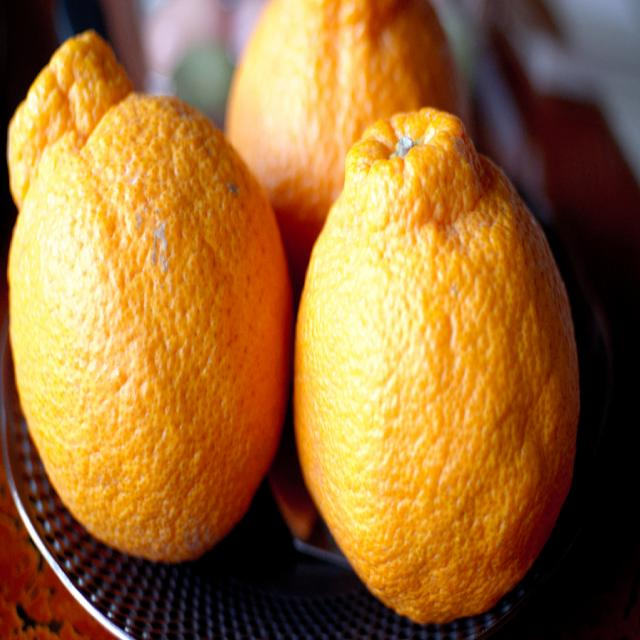Orange: (280, 103, 576, 624), (5, 92, 294, 560), (226, 0, 464, 257), (5, 34, 133, 215)
